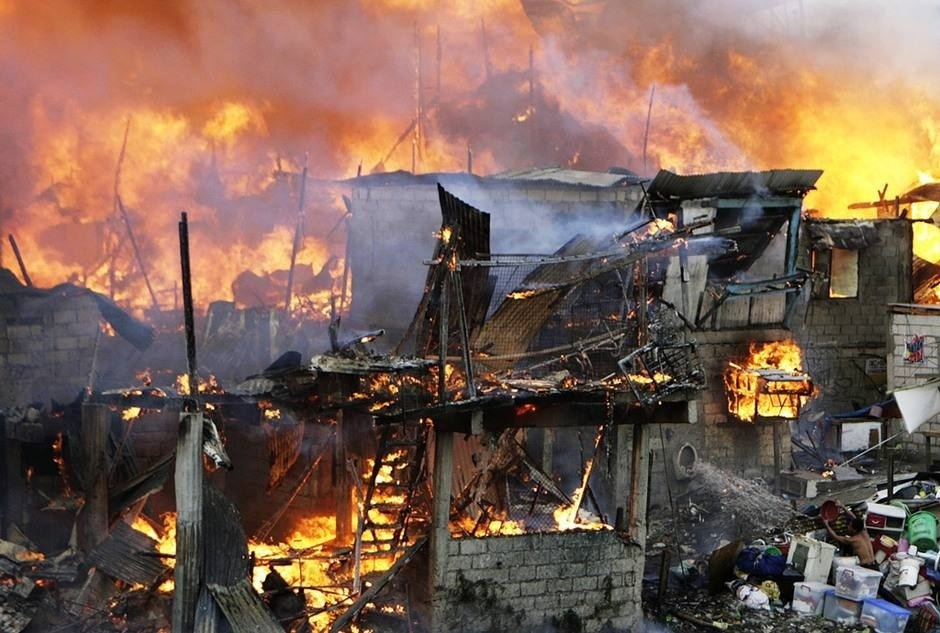fire: (5, 91, 348, 326), (725, 335, 811, 423), (128, 511, 175, 581)
